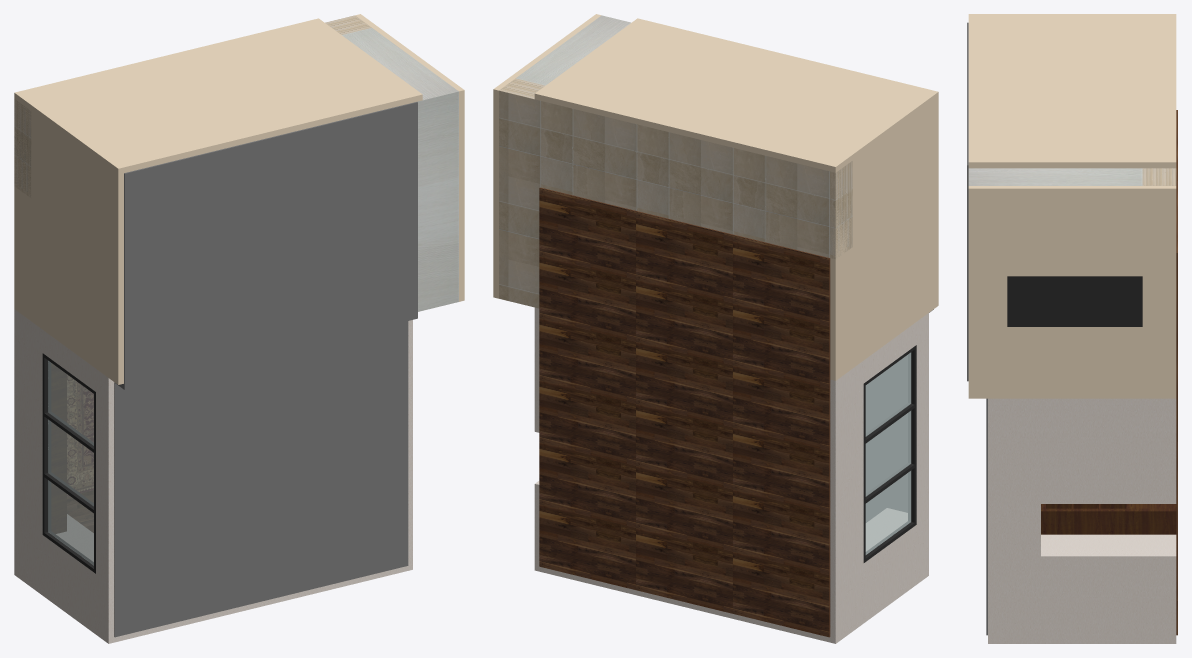
File: room 7.29.18.fbx
3 renders of one model, left to right at view 1: azimuth 30°, elevation 25°; view 2: azimuth 150°, elevation 25°; view 3: azimuth 270°, elevation 25°, orthographic.
Parts seen in each view (by area): view 1: shelving, walls, glass, window, rug; view 2: floor, walls, shelving, glass, window; view 3: walls, shelving, floor.
Part boxes in pixels (box(x1,y1,x2,y2)): shelving: box(14, 15, 458, 637); walls: box(14, 14, 464, 643); glass: box(48, 360, 93, 565); window: box(42, 353, 95, 573); rug: box(67, 375, 93, 496); floor: box(539, 187, 830, 637); walls: box(493, 14, 938, 643); shelving: box(499, 15, 933, 522); glass: box(865, 352, 911, 554); window: box(863, 345, 916, 562); walls: box(968, 14, 1176, 643); shelving: box(967, 22, 1176, 635); floor: box(1176, 110, 1177, 635).
Size of the model in its own units: 248 by 330 by 131.
